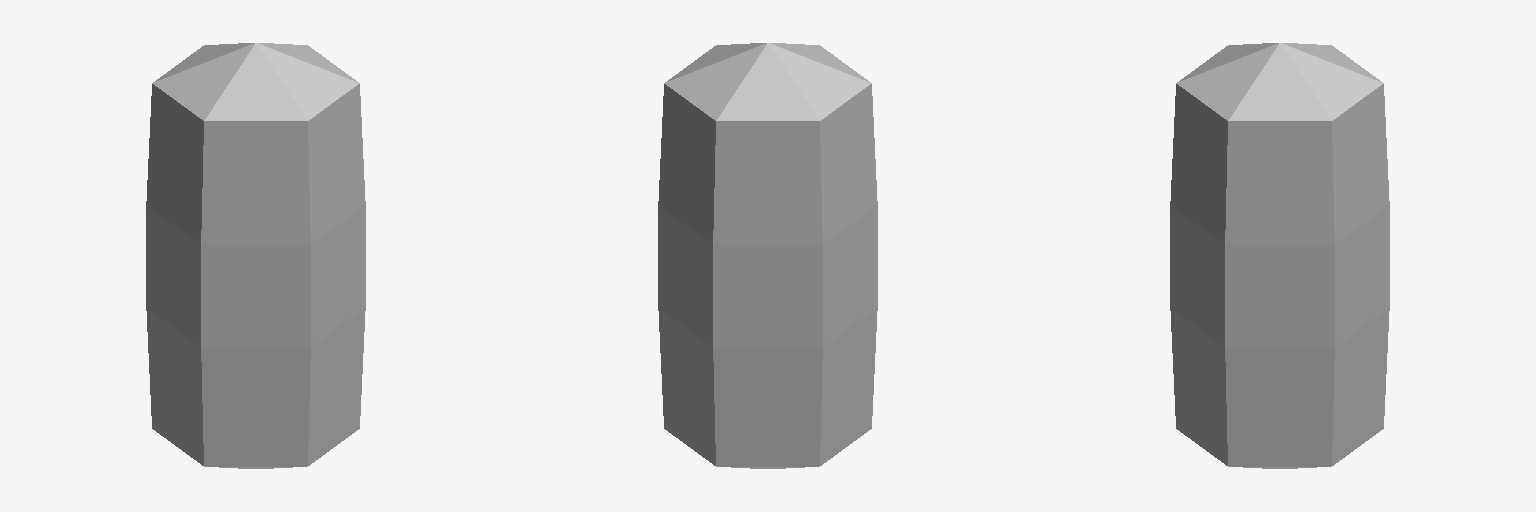
The model's file is bullet_lowpoly.obj.
3 renders of one model, left to right at view 1: azimuth 30°, elevation 25°; view 2: azimuth 150°, elevation 25°; view 3: azimuth 270°, elevation 25°, orthographic.
Visible parts, largest first — view 1: bullet_low; view 2: bullet_low; view 3: bullet_low.
Boxes of the visible parts, x1=… form: bullet_low: x1=146, y1=43, x2=365, y2=468; bullet_low: x1=658, y1=43, x2=877, y2=468; bullet_low: x1=1170, y1=43, x2=1389, y2=468.
Size of the model in its own units: 0.2234 by 0.5538 by 0.2579.